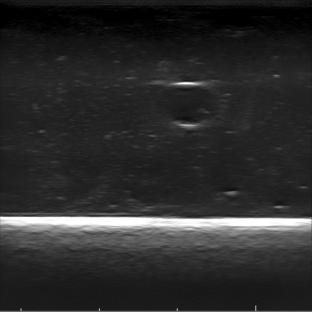vessel: (158, 80, 221, 132)
